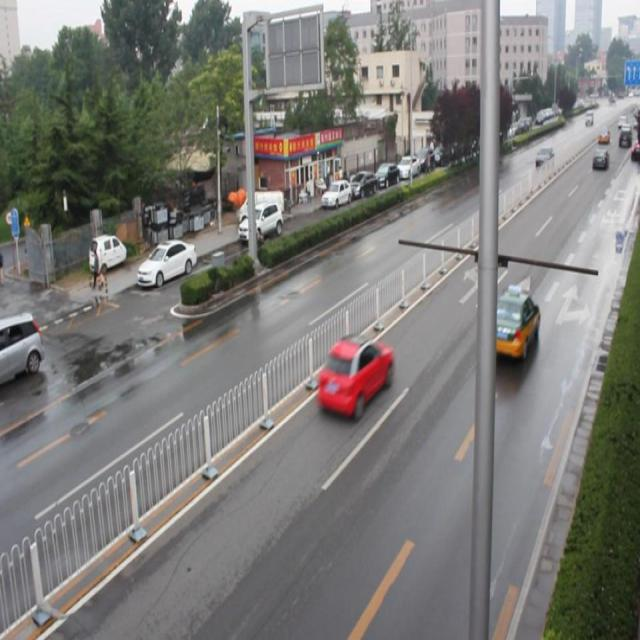car: (316, 330, 391, 420), (484, 284, 540, 363)
